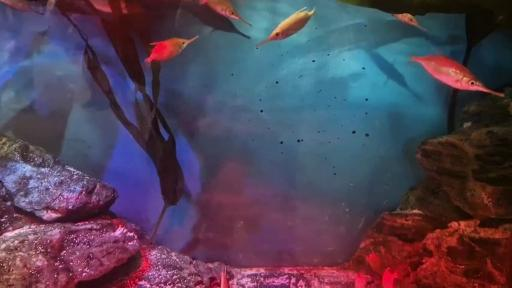Fish: (411, 55, 504, 97), (256, 7, 315, 46), (145, 36, 198, 65), (204, 0, 251, 26), (0, 0, 42, 14), (393, 14, 426, 31), (367, 253, 382, 273), (382, 268, 397, 287), (221, 267, 229, 287), (355, 274, 366, 287)
